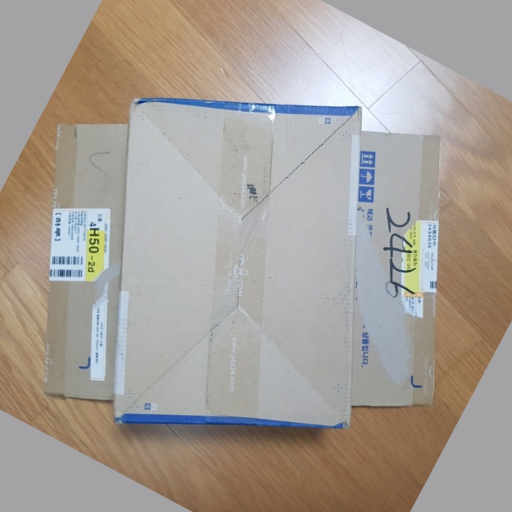Paper_0: (45, 97, 465, 432)
